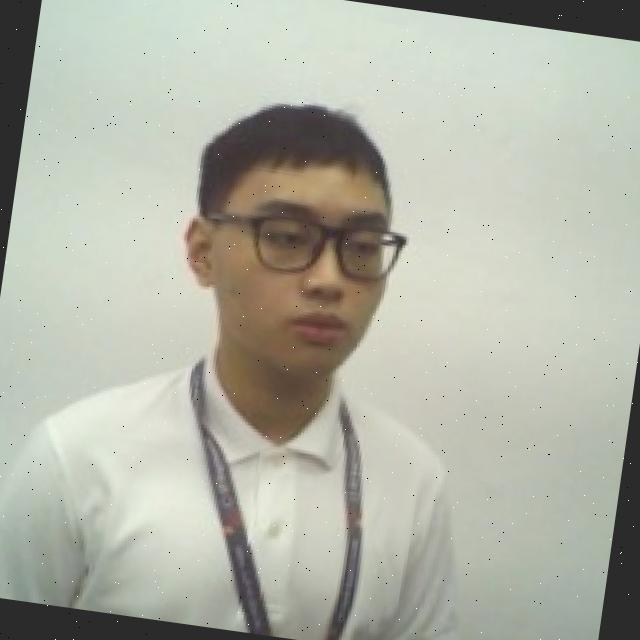no_gloves: (187, 85, 412, 243)
no_hairnet: (162, 215, 404, 392)
